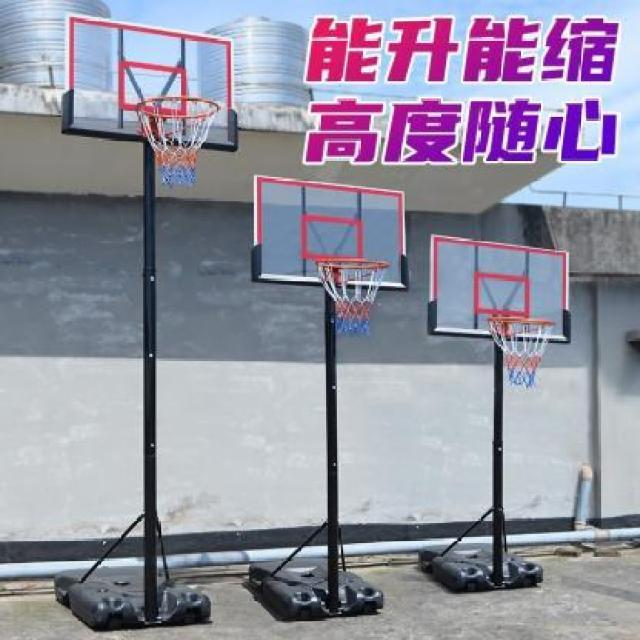rim: (135, 96, 219, 186), (313, 256, 392, 336), (488, 316, 556, 390)
